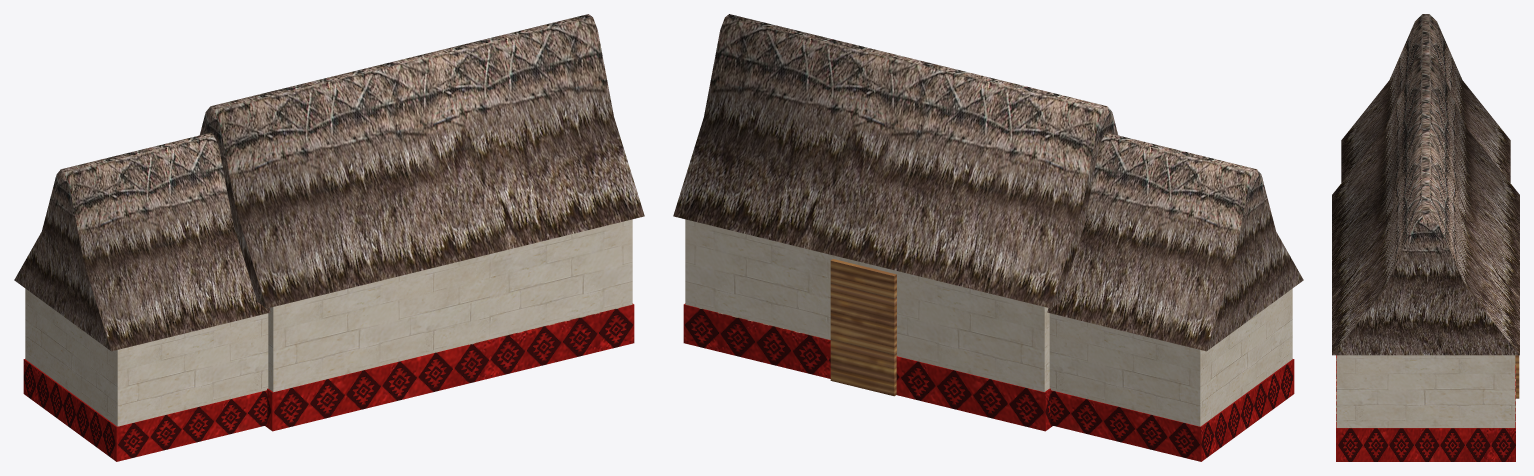
The model's file is house_4.dae.
The picture shows the model from 3 angles, left to right: view 1: azimuth 30°, elevation 25°; view 2: azimuth 150°, elevation 25°; view 3: azimuth 270°, elevation 25°; orthographic projection. The views are drawn at different scales.
Visible parts, largest first — view 1: house_4; view 2: house_4; view 3: house_4.
Part boxes in pixels (x1,y1,x2,y2): house_4: (14, 14, 644, 461); house_4: (673, 14, 1303, 461); house_4: (1332, 14, 1519, 461).
Size of the model in its own units: 18.66 by 6.61 by 9.72.
